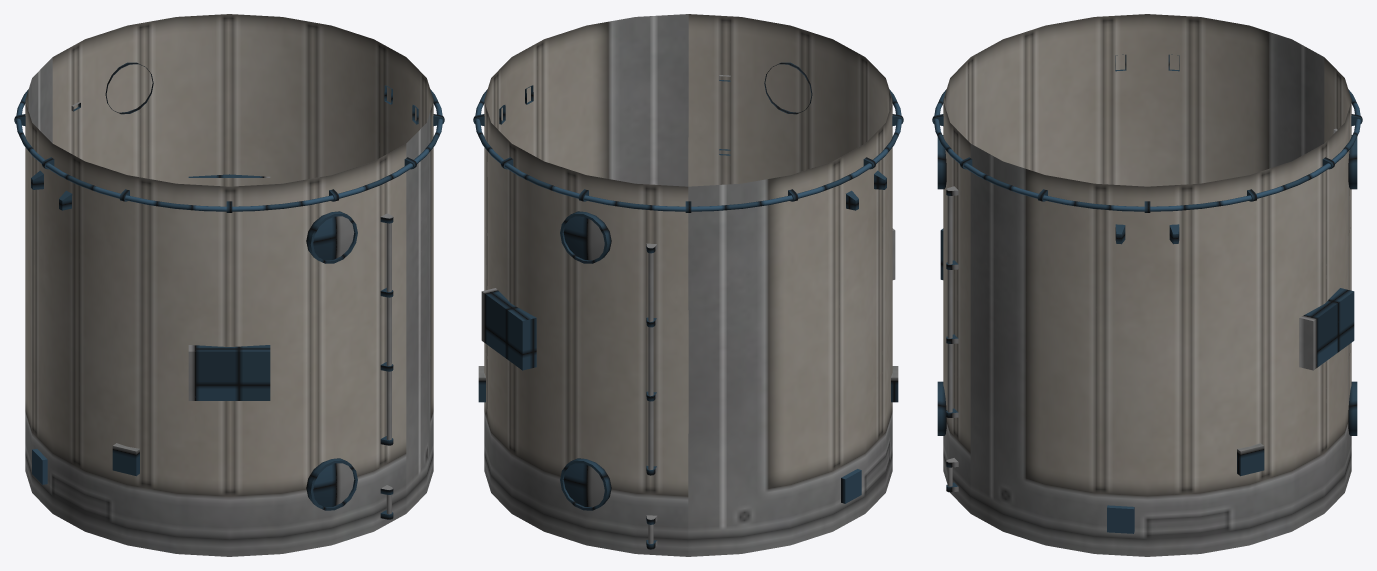
Rendered from priroda_core_plain.obj.
The picture shows the model from 3 angles, left to right: view 1: azimuth 30°, elevation 25°; view 2: azimuth 150°, elevation 25°; view 3: azimuth 270°, elevation 25°; orthographic projection.
Parts seen in each view (by area): view 1: 1, w1; view 2: 1, w1; view 3: 1.
Part boxes in pixels (<box>): 1: <box>14,14,444,556</box>; w1: <box>313,216,354,507</box>; 1: <box>473,14,903,556</box>; w1: <box>563,216,604,507</box>; 1: <box>932,14,1362,556</box>.
Size of the model in its own units: 1.98 by 1.88 by 1.98.
